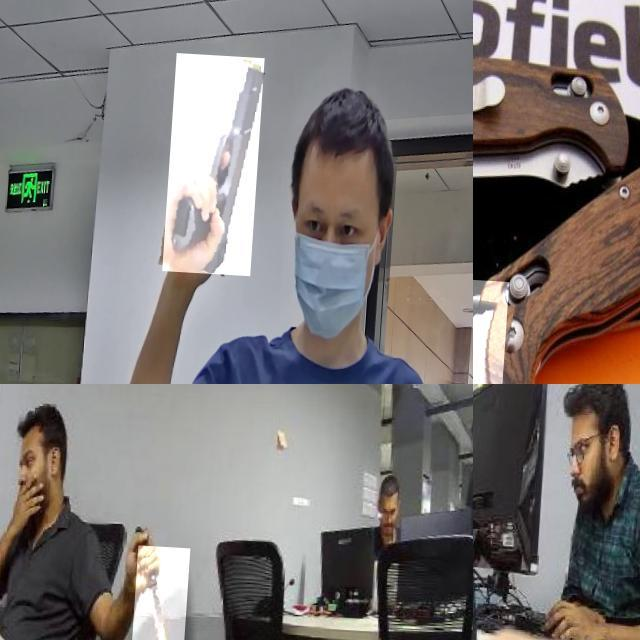-: (473, 263, 626, 384), (138, 541, 196, 640)
gun-knife-thesis - v11 Yolov5 augmented: (168, 50, 268, 272)
